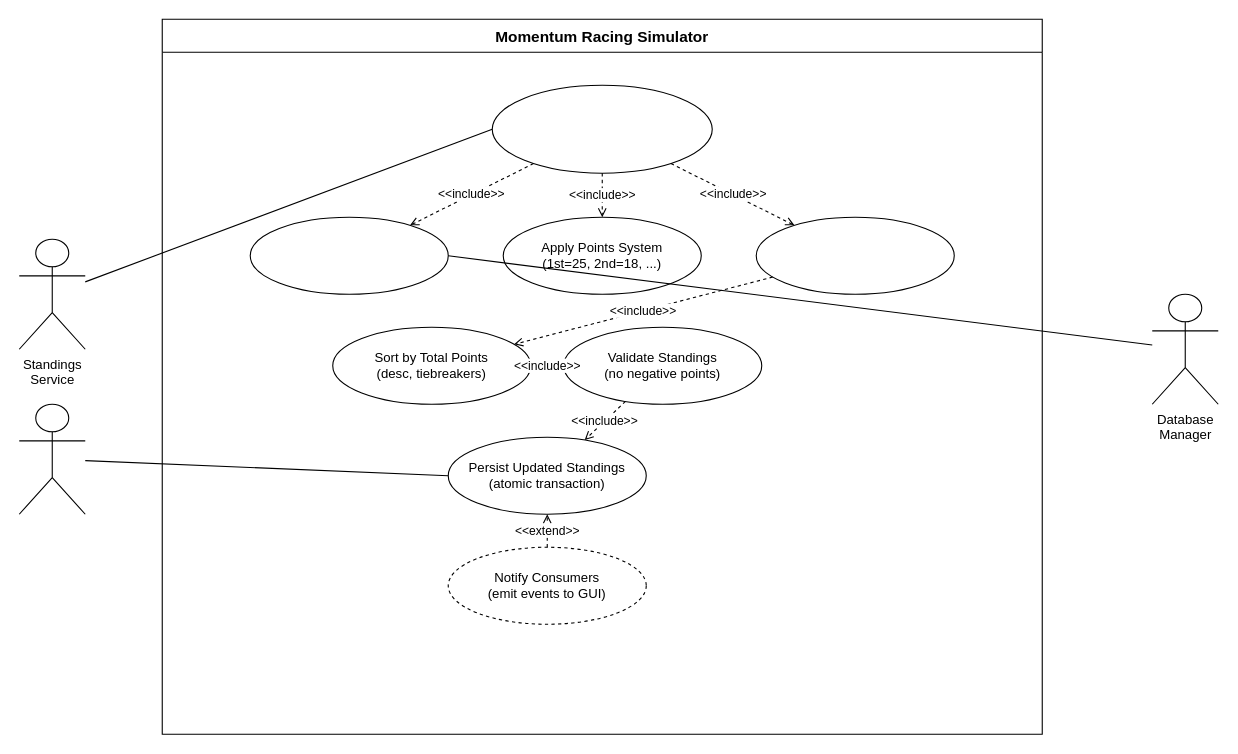
Image size: 1238x754. Some labels were removed from this diagram. Each missing label, with the centre of its shape:
"Admin" belongs at point (51, 458).
"Compute Standings (aggregate by driver/team)" belongs at point (854, 255).
"Gather Race Results (all races in championship)" belongs at point (348, 255).
"Update Championship Standings" belongs at point (601, 128).
